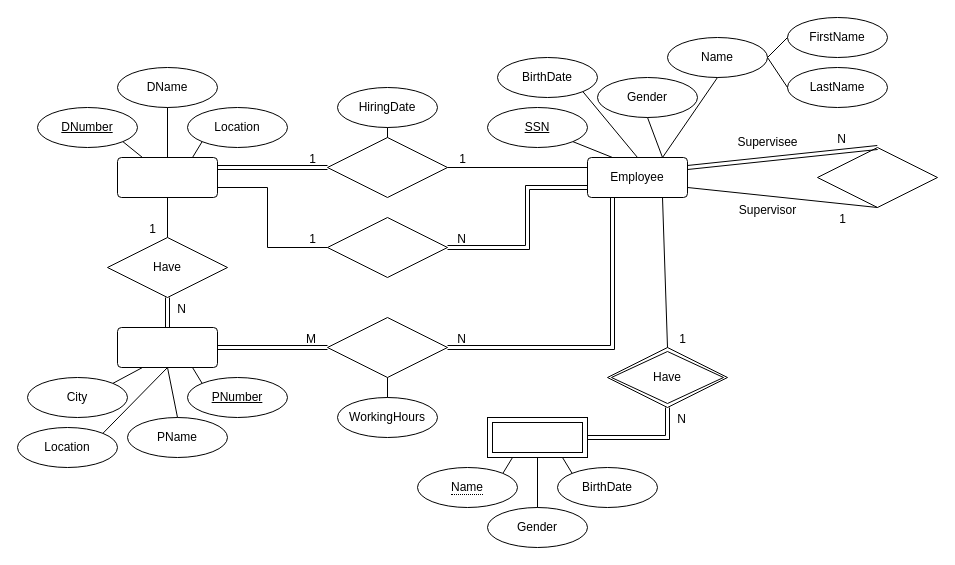
Some shapes in this 955 by 565 pixel diagram are drawn without their labels. The centre of each missing label's shape, as x and y in pixels:
Department: point 167,177
Dependent: point 537,437
Manage: point 387,167
Project: point 167,347
Supervise: point 877,177
WorkIn: point 387,247
WorkOn: point 387,347
